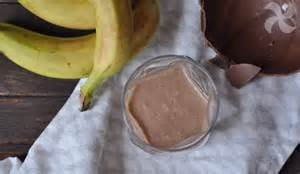banana: (1, 1, 162, 80), (77, 1, 136, 113)
